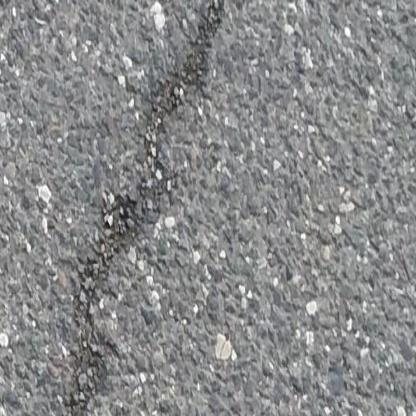Cracks: (62, 0, 249, 416)
